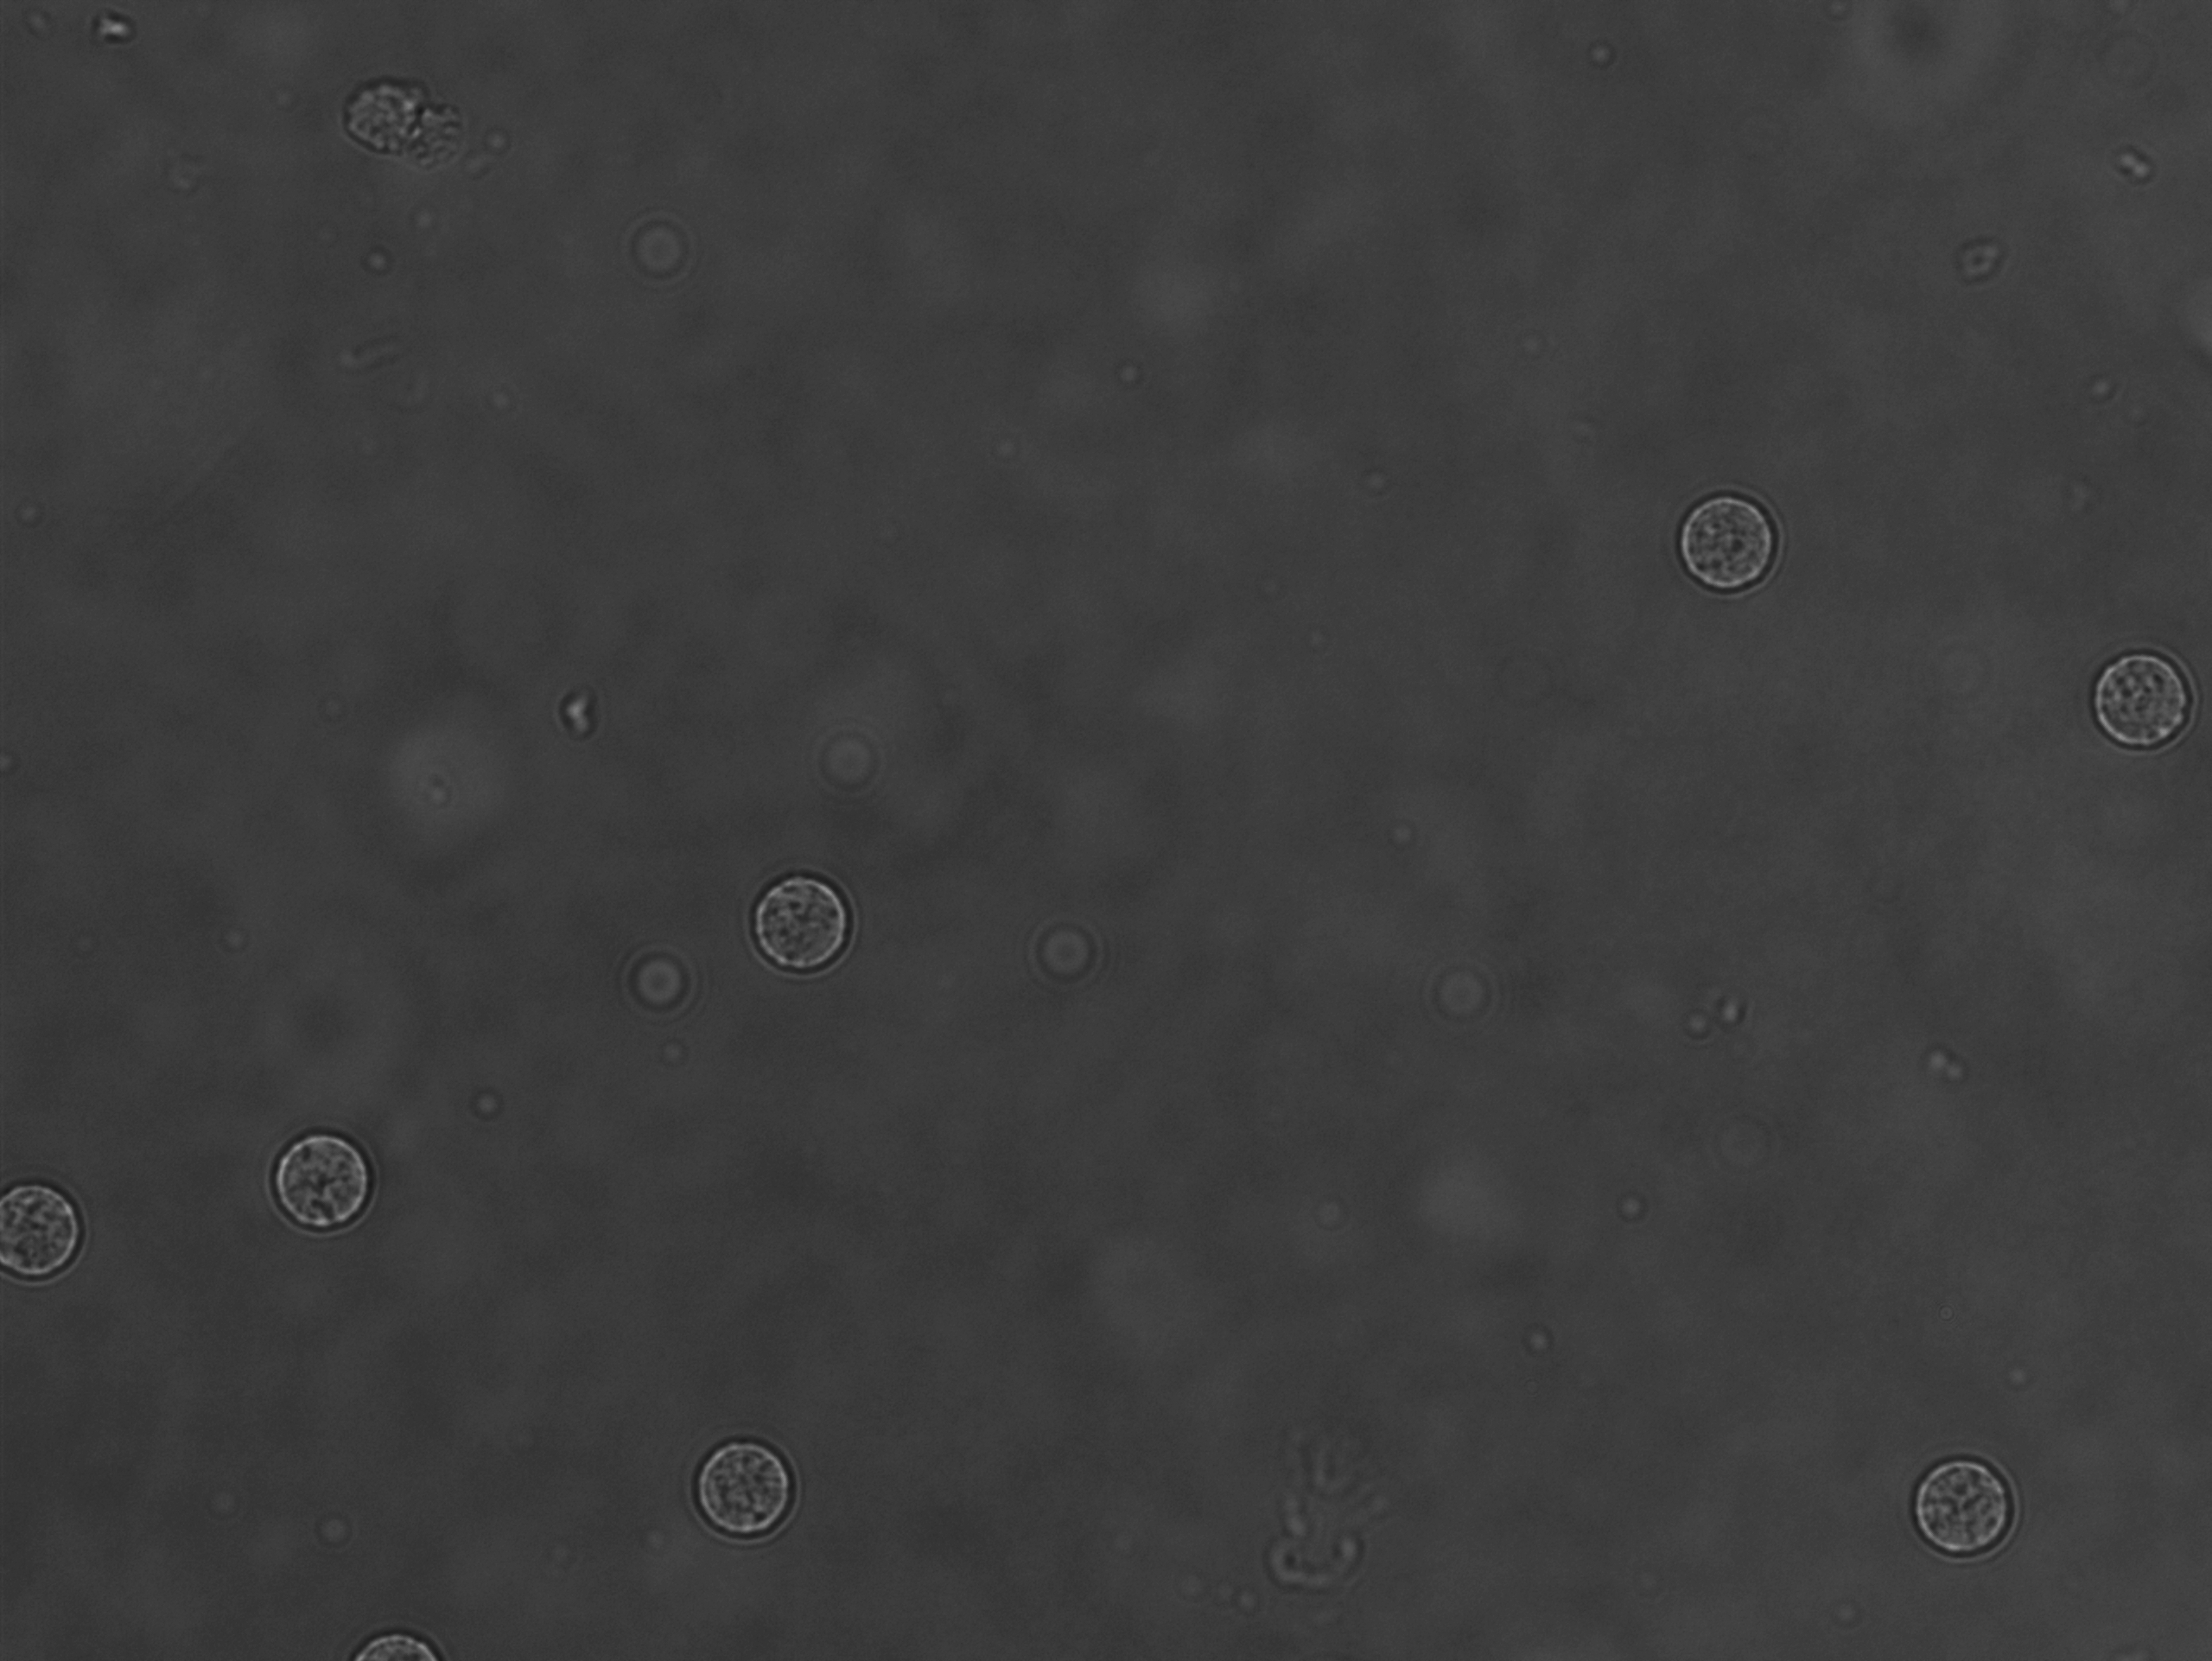depth:0: (1893, 1415, 2069, 1591), (2065, 609, 2207, 769), (665, 1424, 851, 1541), (1661, 462, 1807, 605), (727, 851, 865, 989), (263, 1124, 382, 1246)
